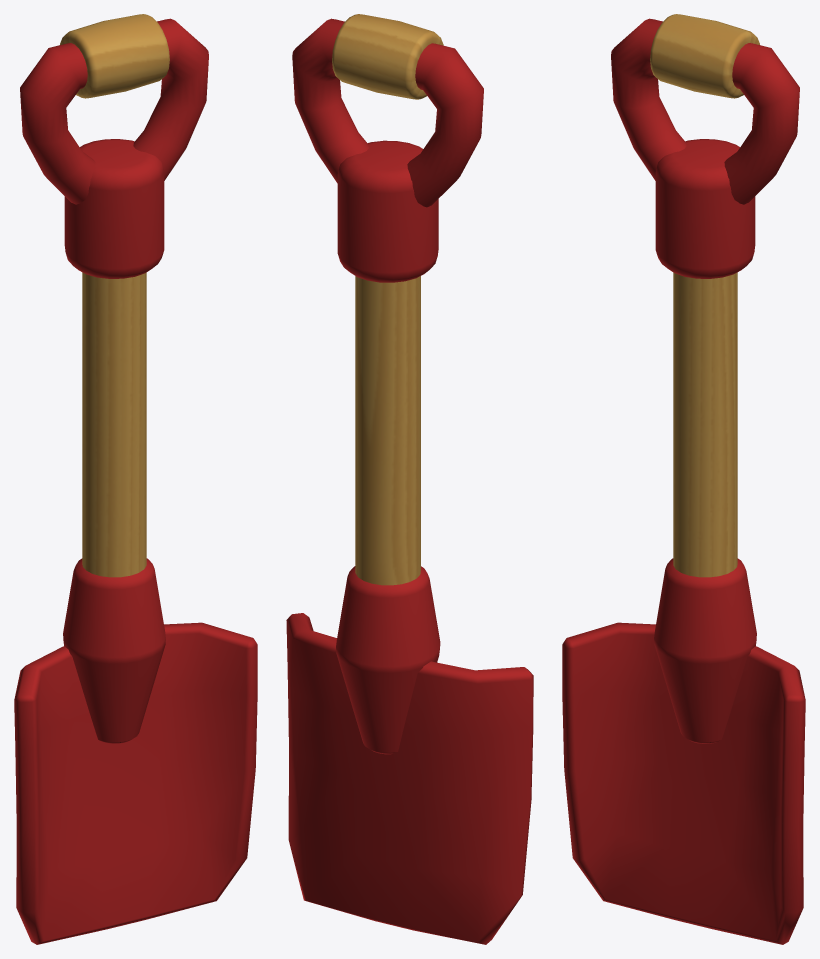
The model's file is squareshovel_red.fbx.
3 renders of one model, left to right at view 1: azimuth 30°, elevation 25°; view 2: azimuth 150°, elevation 25°; view 3: azimuth 330°, elevation 25°, orthographic.
Visible parts, largest first — view 1: polySurface9.001; view 2: polySurface9.001; view 3: polySurface9.001.
Part boxes in pixels (left/top/right/bottom): polySurface9.001: left=14, top=14, right=257, bottom=944; polySurface9.001: left=286, top=14, right=533, bottom=944; polySurface9.001: left=562, top=14, right=805, bottom=944.
Bounding box in the file's own units: 0.425 × 1.5 × 0.1663.
